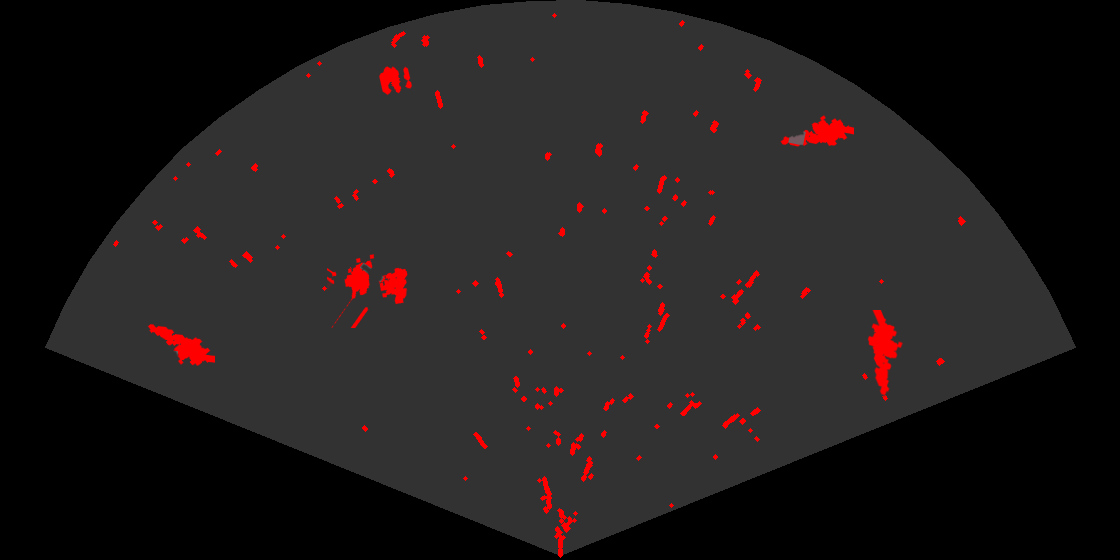ball: (378, 65, 414, 97)
cage: (327, 253, 409, 328)
frogman: (866, 310, 905, 397), (146, 323, 215, 367), (779, 114, 854, 148)
